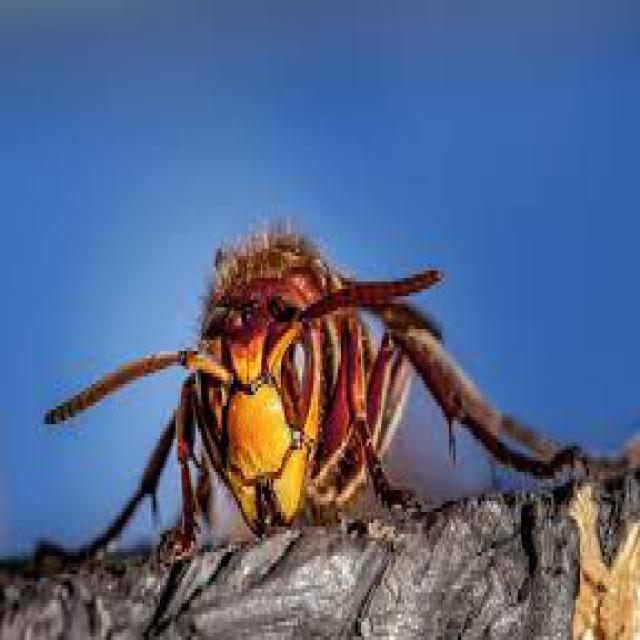Vespa Velutina: (32, 202, 589, 587)
